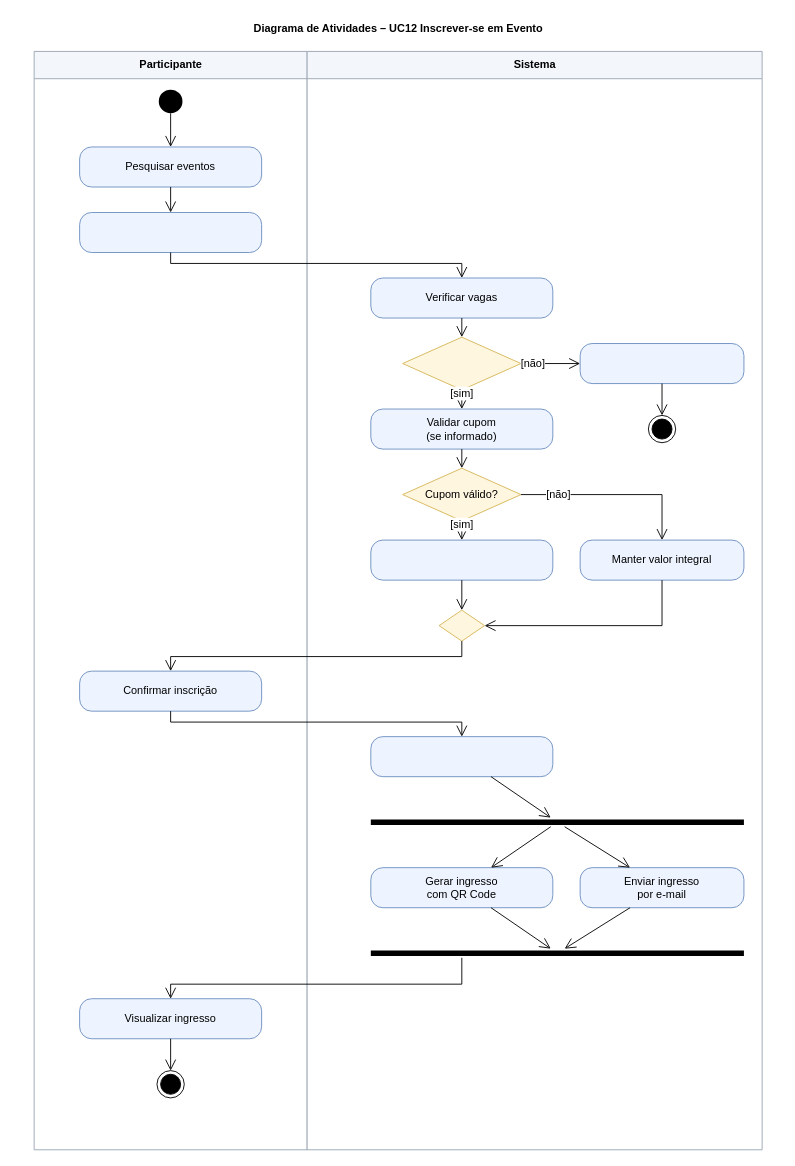
The diagram is 795 pixels wide and 1166 high, and some of its shapes have lost their labels. The shapes that lost their labels are listed below. From the top down, each one's centre as x and y in pixels, then its label:
(170,232): Selecionar evento, ingresso e cupom
(461,363): Há vagas?
(661,363): Exibir "Esgotado"
(461,559): Aplicar desconto
(461,756): Registrar inscrição
